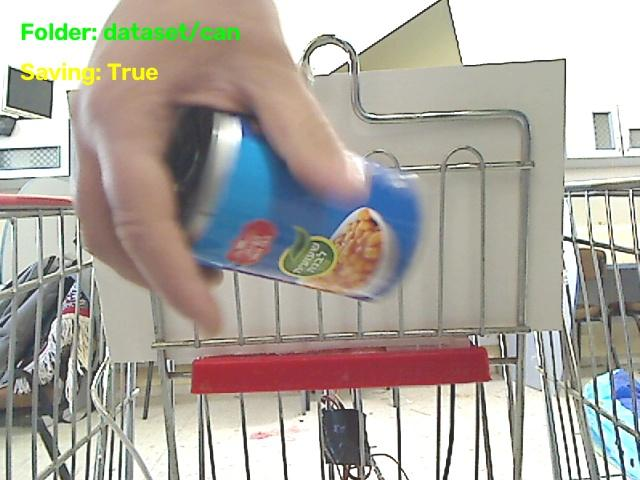can: (168, 107, 421, 299)
